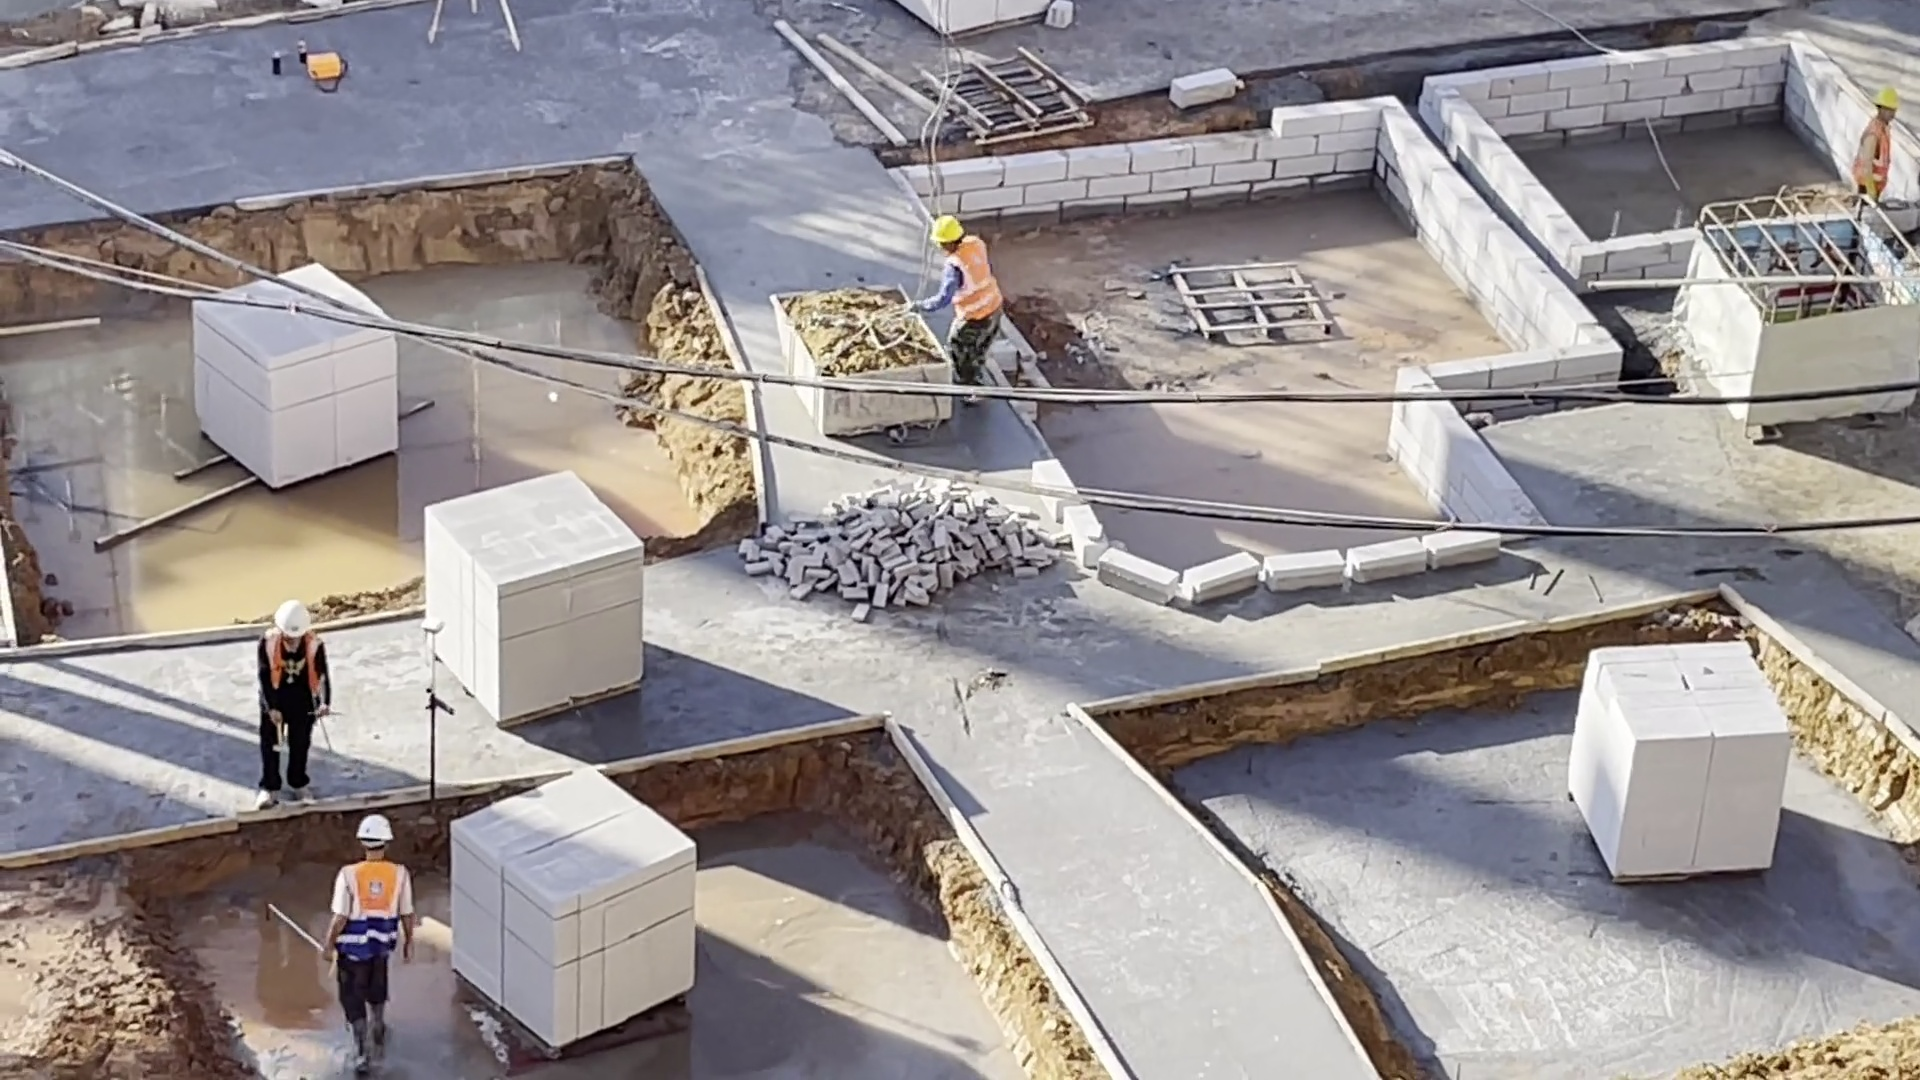helmet: (271, 599, 315, 638), (349, 812, 396, 849), (928, 213, 965, 246), (1874, 90, 1900, 111)
person: (313, 810, 419, 1063), (247, 593, 335, 809), (915, 210, 1009, 408), (1852, 88, 1897, 201)
vest: (331, 862, 408, 960), (949, 235, 1005, 322), (266, 631, 323, 694), (1855, 117, 1890, 190)
